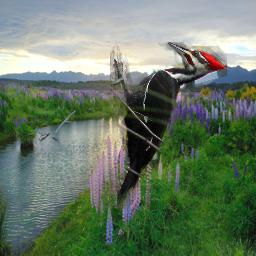Woodpecker: (110, 42, 227, 208)
